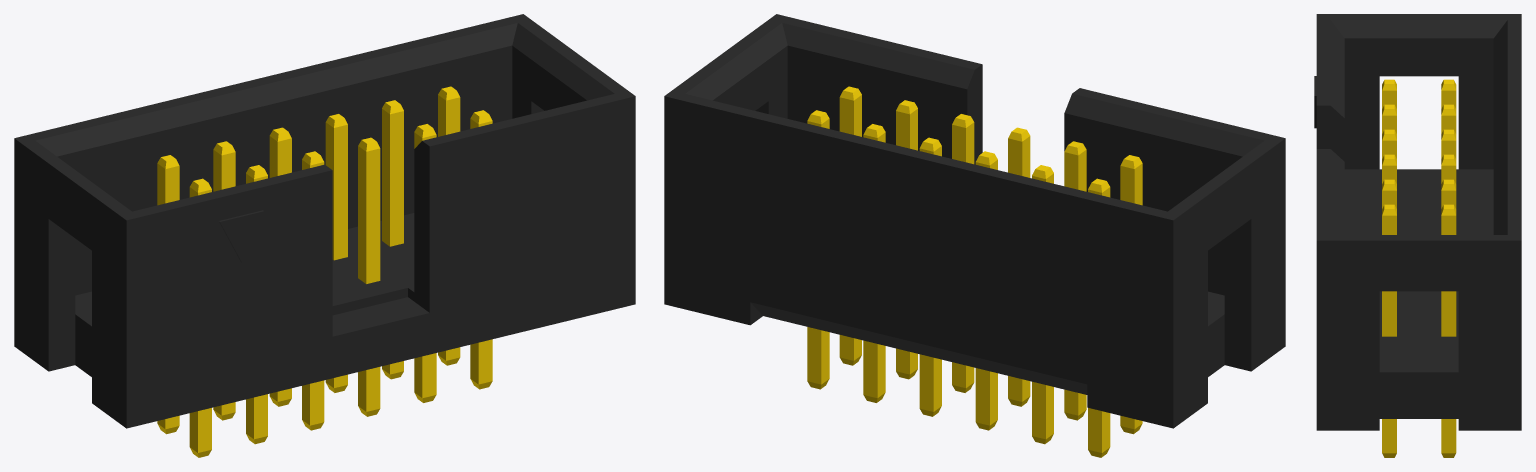
The picture shows the model from 3 angles, left to right: view 1: azimuth 30°, elevation 25°; view 2: azimuth 150°, elevation 25°; view 3: azimuth 270°, elevation 25°; orthographic projection. The views are drawn at different scales.
Visible parts, largest first — view 1: IDC (CONNFLY); view 2: IDC (CONNFLY); view 3: IDC (CONNFLY).
Boxes of the visible parts, bbox=[...] form: IDC (CONNFLY): bbox=[14, 14, 635, 457]; IDC (CONNFLY): bbox=[664, 14, 1285, 457]; IDC (CONNFLY): bbox=[1314, 14, 1521, 457].
Size of the model in its own units: 0.023 by 0.0126 by 0.0089.
